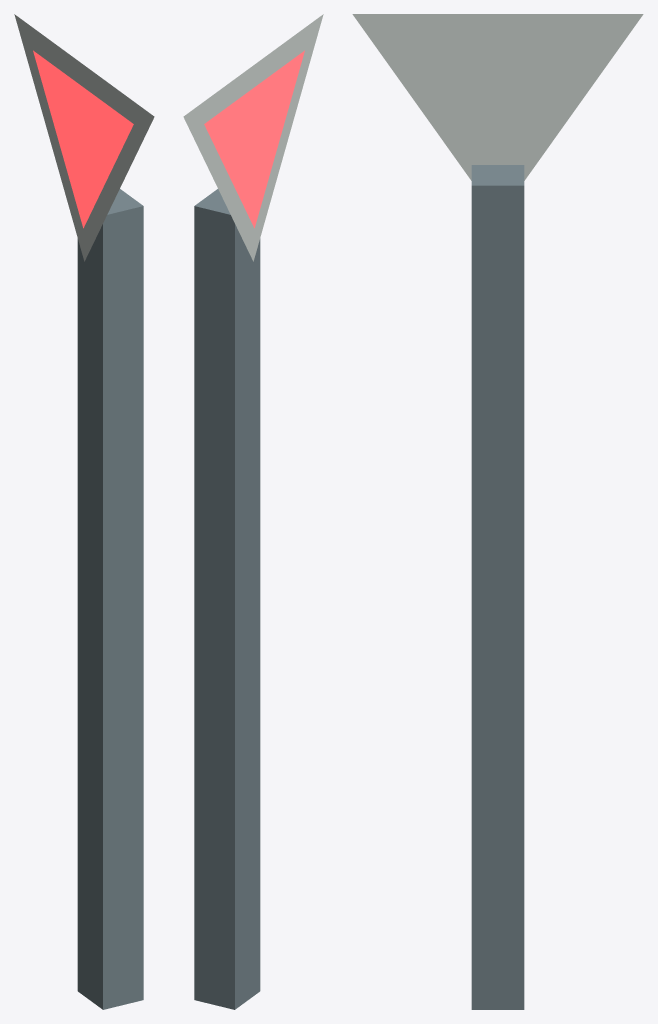
File: sign_roundabout_yield_ShadowProxy.glb
3 views of the same model, side by side, from view 1: azimuth 30°, elevation 25°; view 2: azimuth 150°, elevation 25°; view 3: azimuth 270°, elevation 25° (orthographic). The views are drawn at different scales.
Parts seen in each view (by area): view 1: sign_roundabout_yield__surface.003; view 2: sign_roundabout_yield__surface.003; view 3: sign_roundabout_yield__surface.003.
Part boxes in pixels (left/top/right/bottom): sign_roundabout_yield__surface.003: left=14, top=14, right=154, bottom=1009; sign_roundabout_yield__surface.003: left=183, top=14, right=323, bottom=1009; sign_roundabout_yield__surface.003: left=352, top=14, right=643, bottom=1009.
Size of the model in its own units: 0.129 by 2.43 by 0.66.
